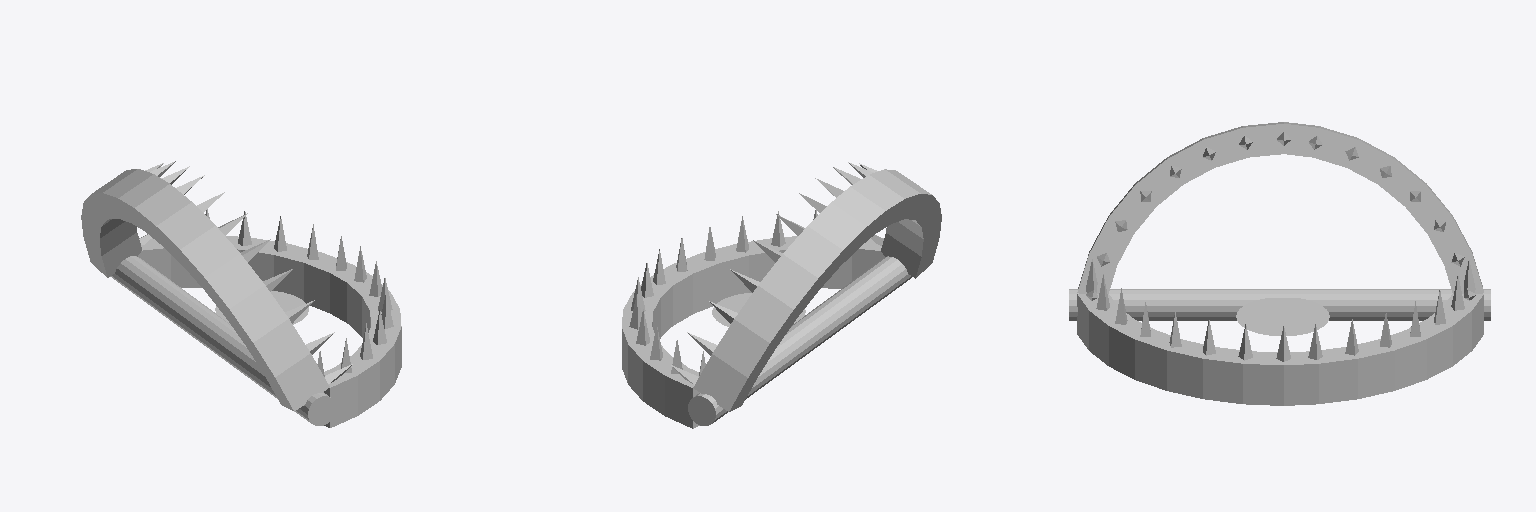
File: bearTrap.obj
3 views of the same model, side by side, from view 1: azimuth 30°, elevation 25°; view 2: azimuth 150°, elevation 25°; view 3: azimuth 270°, elevation 25° (orthographic).
Visible parts, largest first — view 1: Cube; view 2: Cube; view 3: Cube.
Boxes of the visible parts, box(x1,y1,x2,y2) form: Cube: box(81, 161, 401, 427); Cube: box(622, 162, 941, 428); Cube: box(1069, 122, 1490, 405).
Size of the model in its own units: 1.31 by 0.9596 by 2.